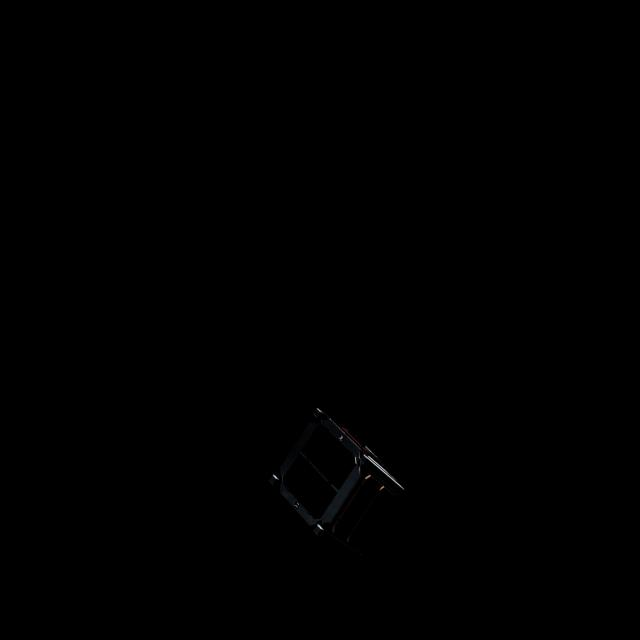satellite: (259, 400, 409, 559)
